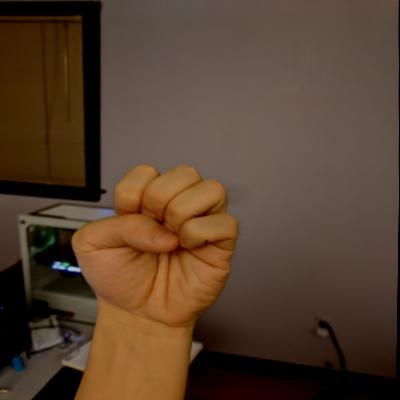hand: (64, 158, 246, 334)
